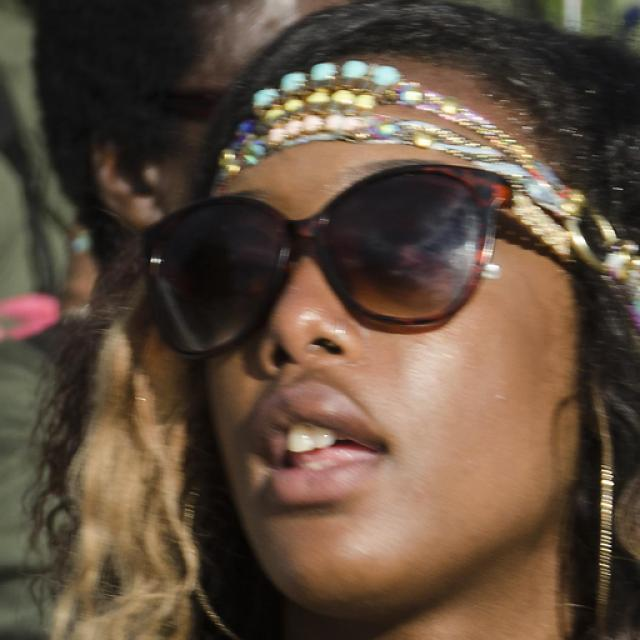surprise: (204, 52, 578, 608)
